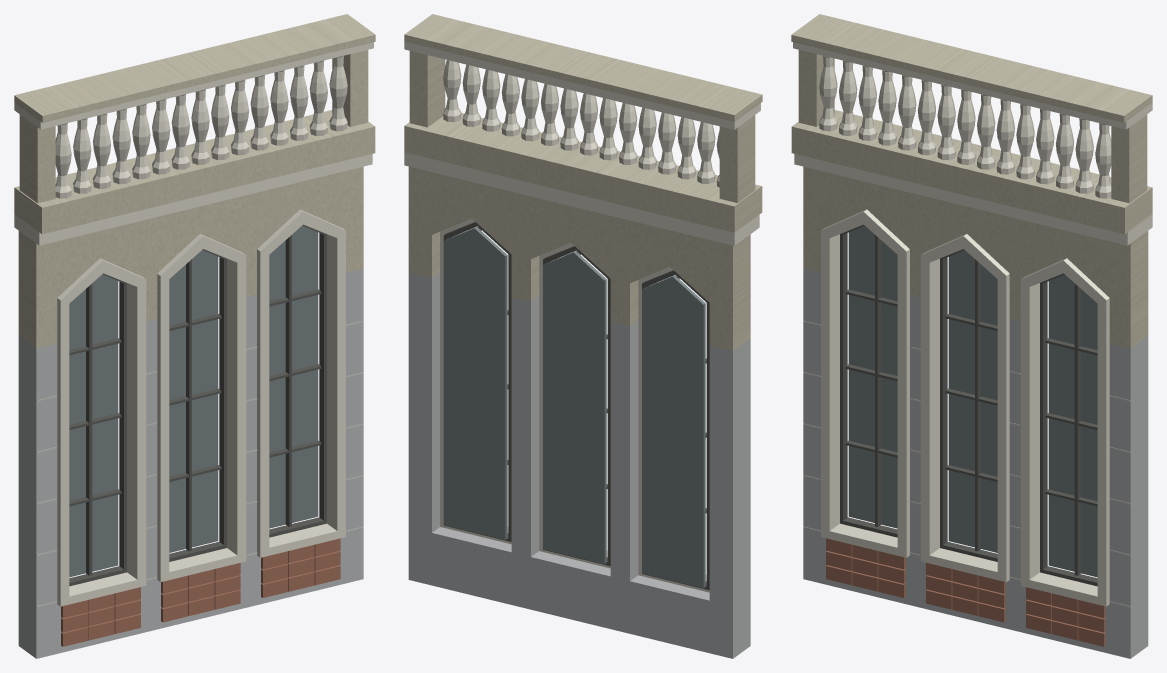
File: longjiang-2-pointed-veranda-far.glb
The picture shows the model from 3 angles, left to right: view 1: azimuth 30°, elevation 25°; view 2: azimuth 150°, elevation 25°; view 3: azimuth 330°, elevation 25°; orthographic projection.
Visible parts, largest first — view 1: 龙江路2号住宅廊侧三联折线窗与瓶栏; view 2: 龙江路2号住宅廊侧三联折线窗与瓶栏; view 3: 龙江路2号住宅廊侧三联折线窗与瓶栏.
Boxes of the visible parts, left/top/right/bottom form: 龙江路2号住宅廊侧三联折线窗与瓶栏: left=14, top=14, right=375, bottom=658; 龙江路2号住宅廊侧三联折线窗与瓶栏: left=404, top=14, right=762, bottom=658; 龙江路2号住宅廊侧三联折线窗与瓶栏: left=791, top=14, right=1152, bottom=658.
Size of the model in its own units: 2.1 by 3.32 by 0.31.
7 materials, 1 textured.
